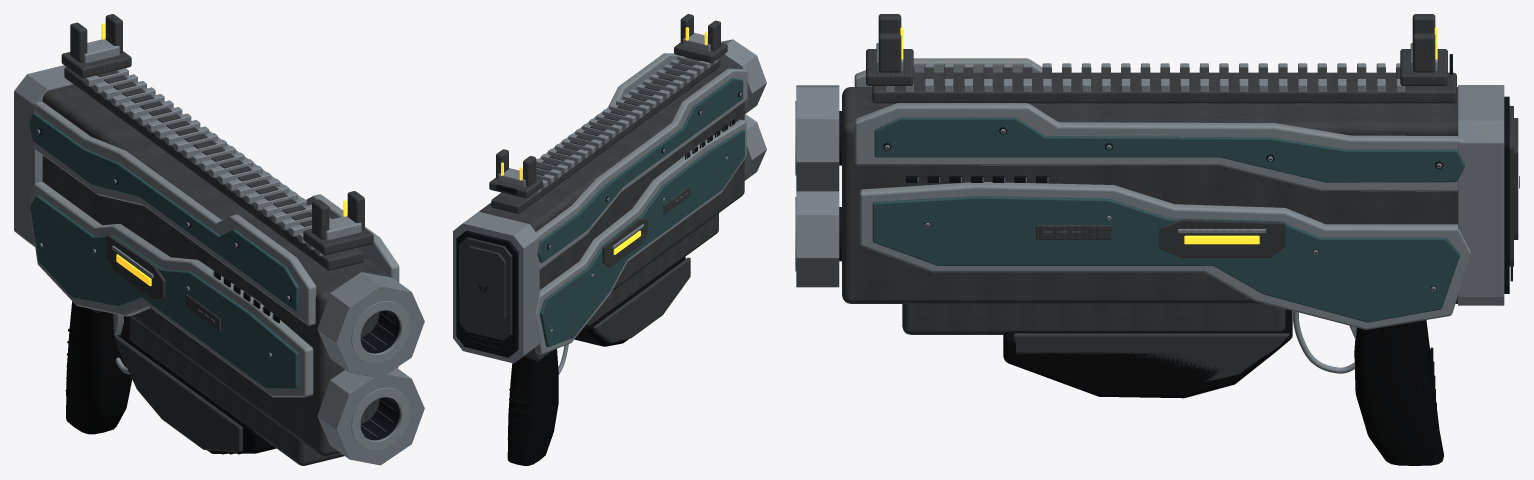
The model's file is vector-shotgun-lod1.glb.
3 renders of one model, left to right at view 1: azimuth 30°, elevation 25°; view 2: azimuth 150°, elevation 25°; view 3: azimuth 270°, elevation 25°, orthographic. The views are drawn at different scales.
Parts seen in each view (by area): view 1: weapon:joined; view 2: weapon:joined; view 3: weapon:joined.
Boxes of the visible parts, bbox=[...] form: weapon:joined: bbox=[14, 14, 424, 465]; weapon:joined: bbox=[453, 14, 766, 465]; weapon:joined: bbox=[795, 14, 1519, 465].
Size of the model in its own units: 0.0912 by 0.3066 by 0.4598.
Materials: 7 (5 with a texture image).
